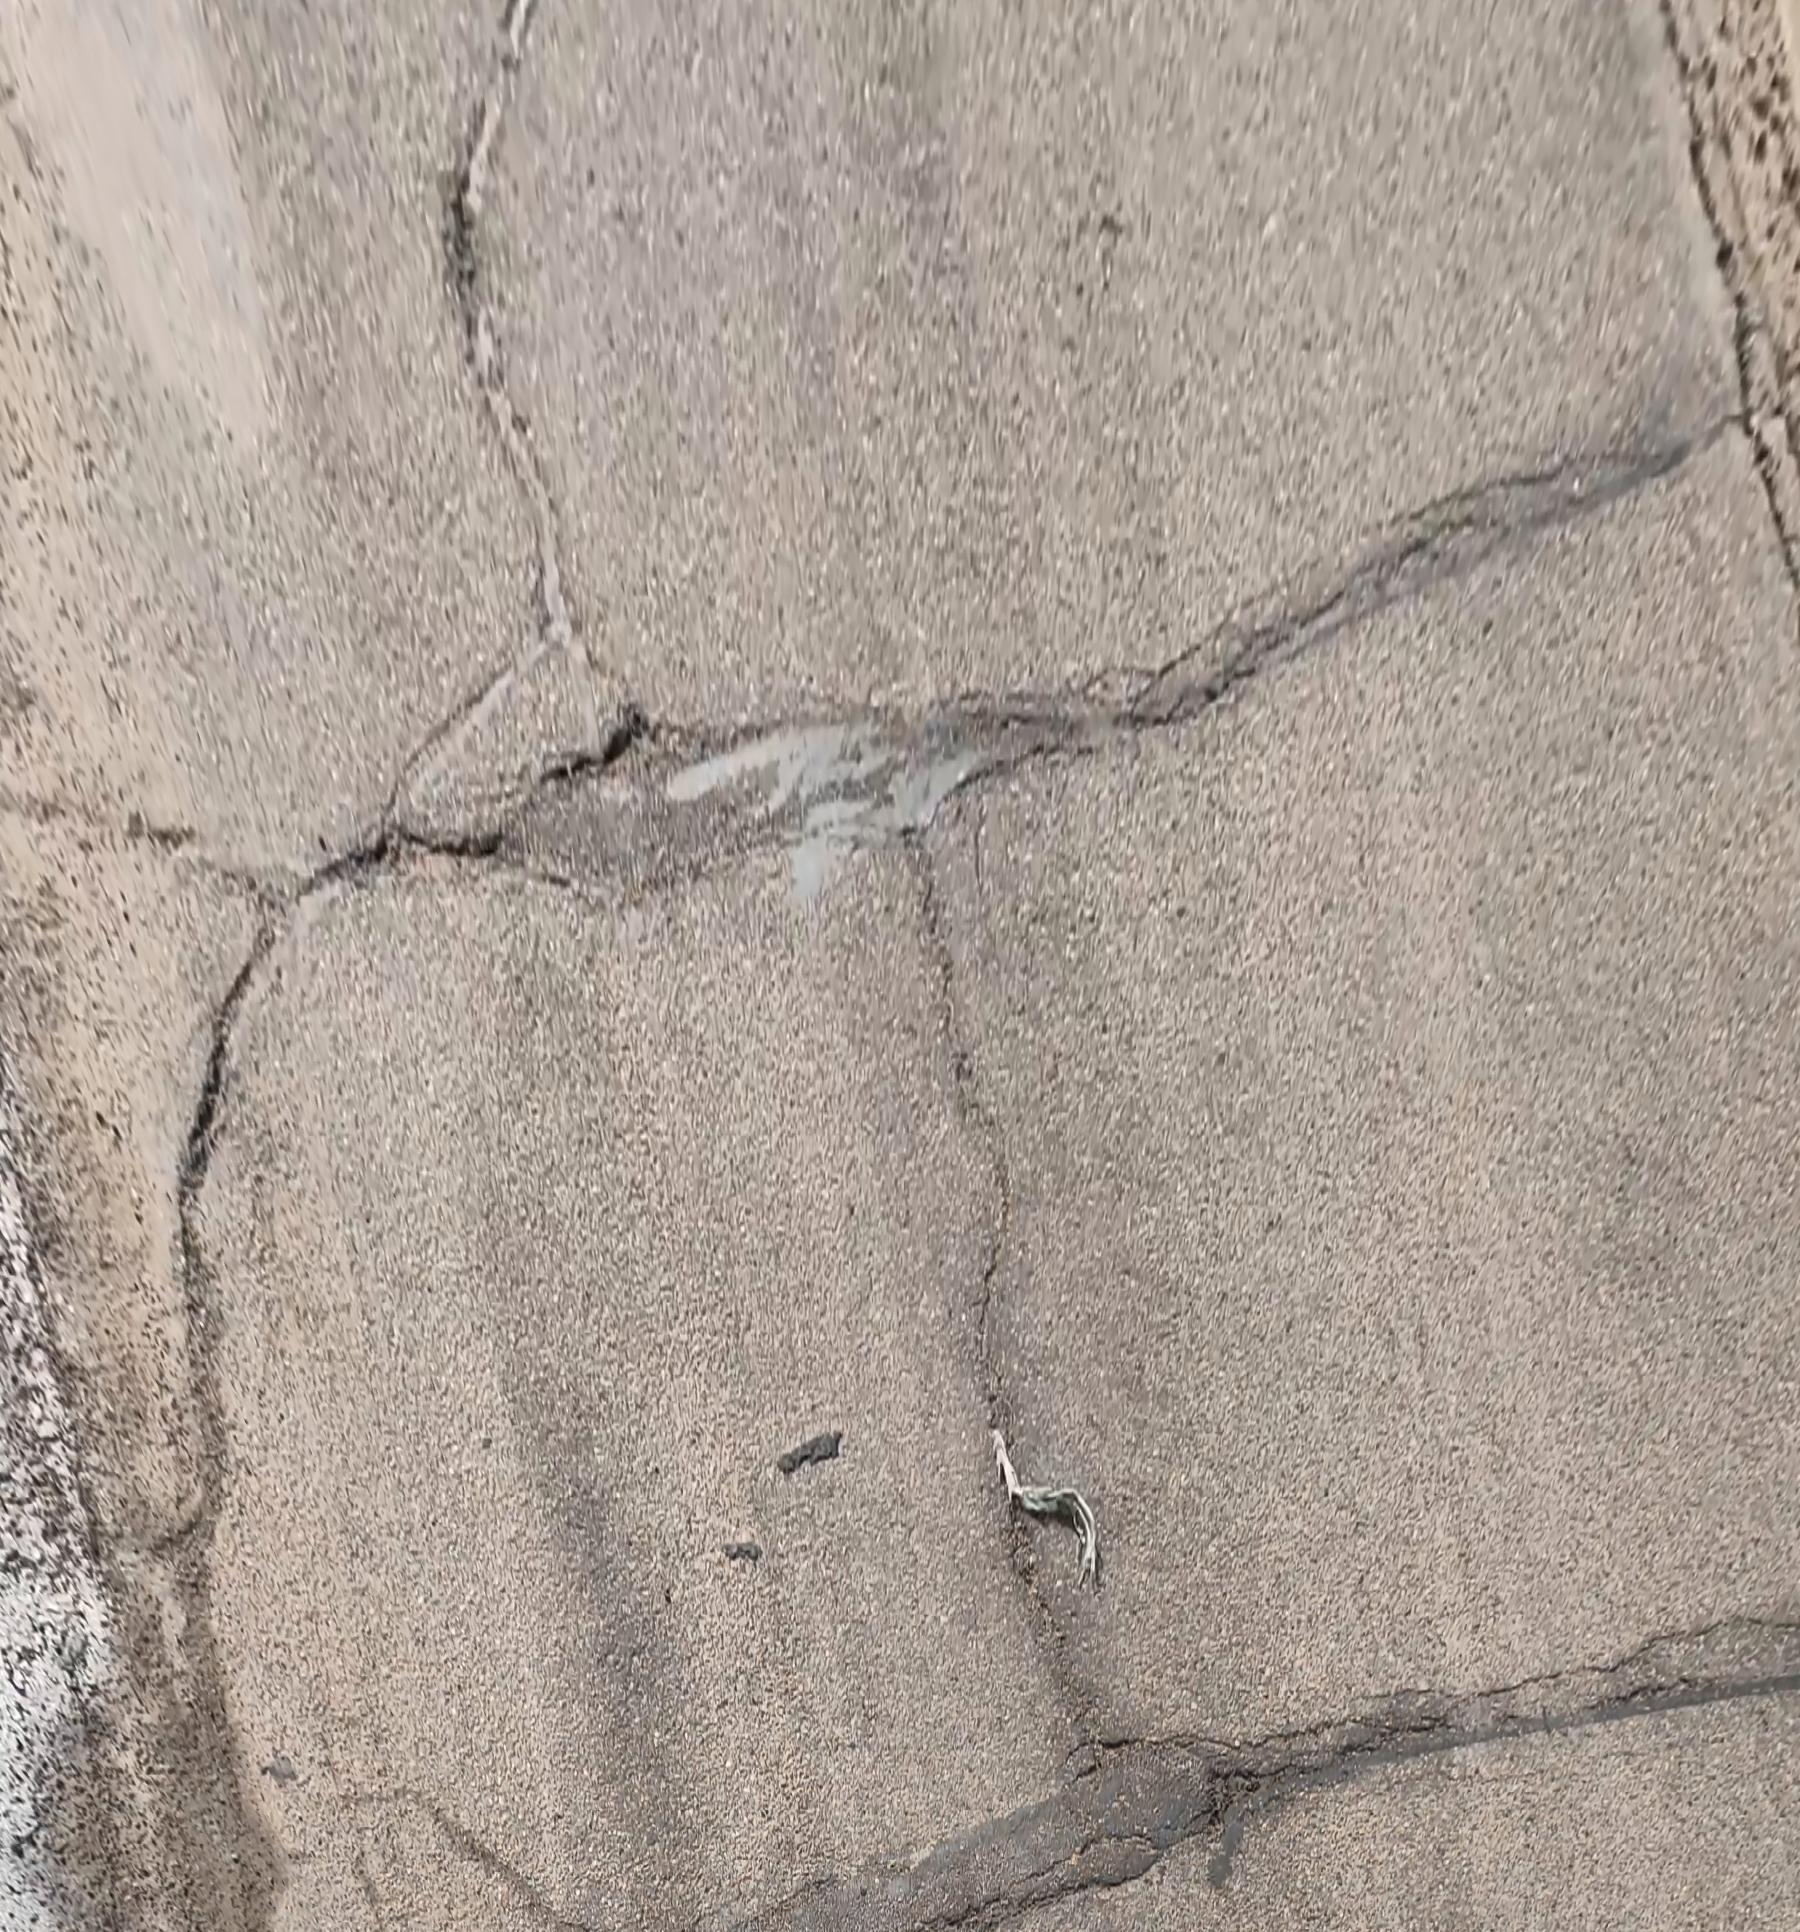pothole_patch_poor: (497, 697, 1127, 907)
